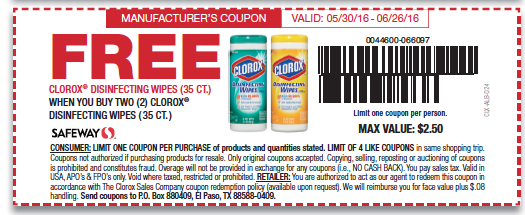Wipes: (268, 29, 313, 135), (226, 32, 267, 135)
